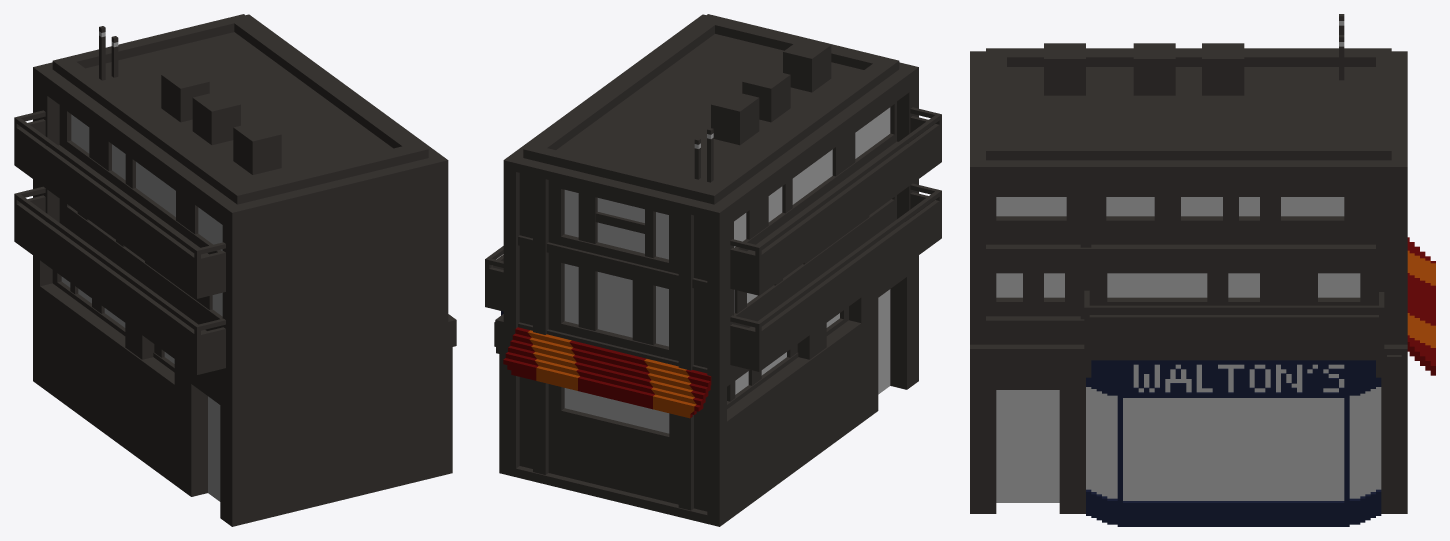
Rendered from Building_Mesh_011.fbx.
3 views of the same model, side by side, from view 1: azimuth 30°, elevation 25°; view 2: azimuth 150°, elevation 25°; view 3: azimuth 270°, elevation 25° (orthographic). The views are drawn at different scales.
Parts seen in each view (by area): view 1: Building_011; view 2: Building_011; view 3: Building_011.
Boxes of the visible parts, x1=… form: Building_011: x1=14, y1=14, x2=456, y2=526; Building_011: x1=485, y1=14, x2=941, y2=526; Building_011: x1=970, y1=14, x2=1435, y2=526.
Size of the model in its own units: 6.6 by 8.42 by 8.84.
